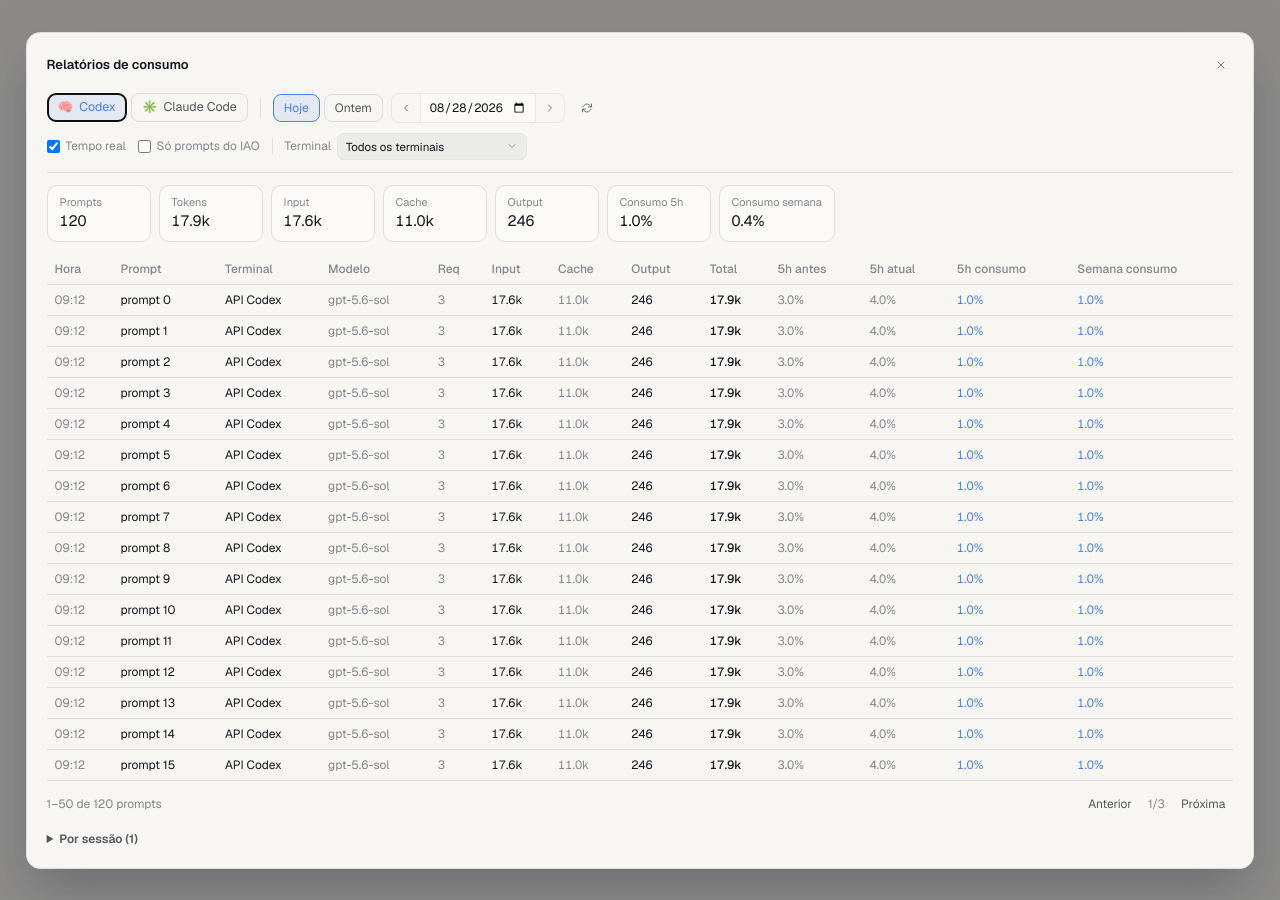
Scenario: ReportsModal › pagina os prompts do dia sem esconder nenhum
The width and height of the screenshot is (1280, 900).
Expected: the text "1–50 de 120 prompts" is shown, left=47, top=794, right=162, bottom=812
Expected: the text "prompt 0" is shown, left=112, top=284, right=217, bottom=315
What coordinates should you click on to do the following:
click the button "Próxima"
I would click on:
 (1203, 804)
Its box is left=1173, top=790, right=1233, bottom=818.
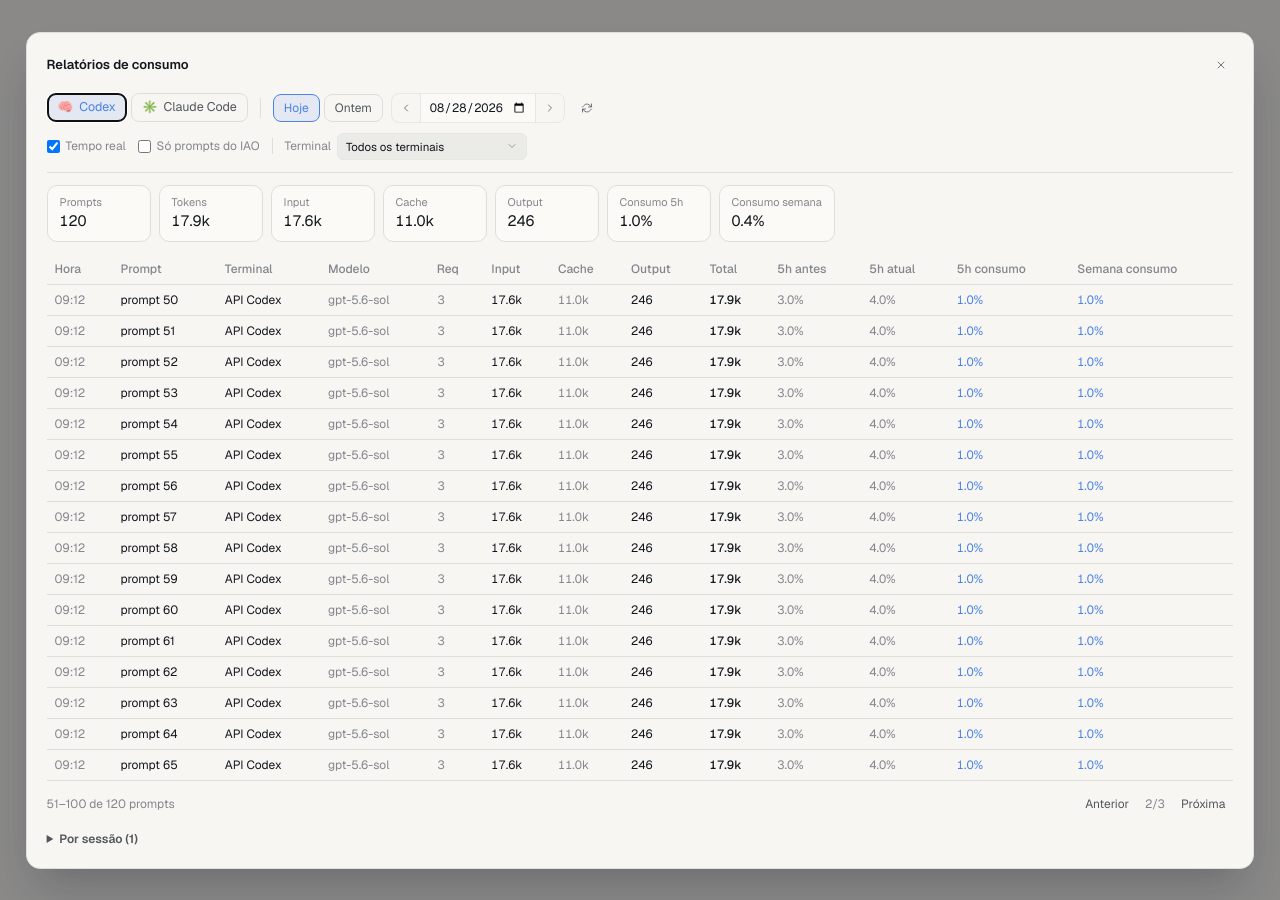
Expected: the text "prompt 50" is shown, left=112, top=284, right=217, bottom=315
Expected: the text "51–100 de 120 prompts" is shown, left=47, top=794, right=175, bottom=812
